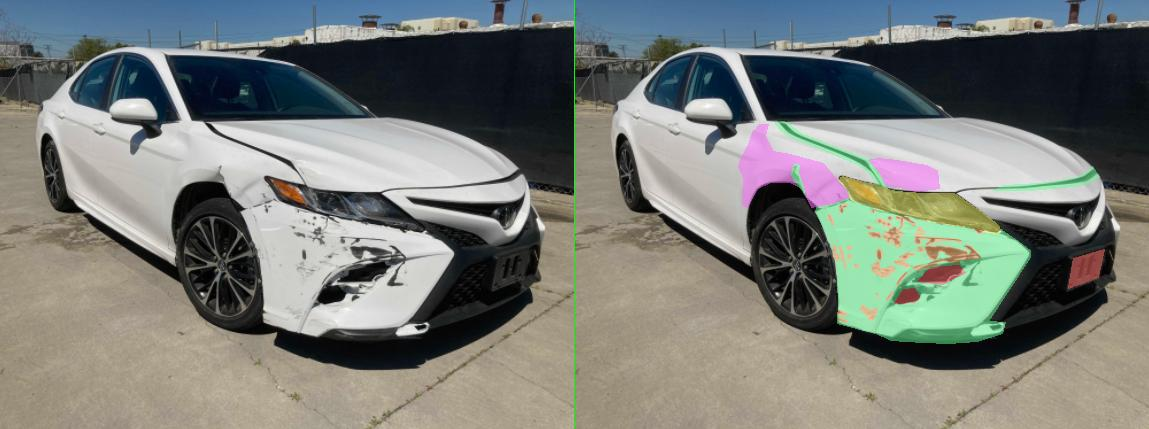Broken part: (480, 194, 911, 343), (398, 121, 623, 187), (835, 166, 1049, 190), (432, 164, 460, 194)
Cracked: (528, 176, 851, 233)
Dent: (326, 124, 548, 207), (585, 158, 729, 191)
Missing part: (987, 249, 1059, 288), (685, 265, 781, 284), (639, 288, 691, 303)
Paint chip: (685, 245, 811, 270), (679, 235, 773, 246), (617, 227, 657, 247), (593, 261, 639, 277), (643, 215, 681, 230), (570, 305, 605, 320), (528, 245, 542, 268), (601, 218, 635, 227), (643, 272, 665, 285), (514, 245, 530, 260), (649, 252, 679, 259), (639, 260, 669, 267), (587, 232, 613, 239), (601, 248, 615, 260), (528, 203, 544, 213), (623, 291, 637, 300), (506, 213, 516, 225), (799, 228, 817, 234), (524, 309, 542, 315), (522, 192, 536, 199), (677, 264, 695, 269), (526, 317, 544, 322), (679, 230, 701, 234), (685, 246, 697, 252), (542, 245, 552, 250), (585, 225, 595, 229), (625, 216, 635, 220), (544, 254, 552, 259), (685, 227, 693, 232), (556, 264, 566, 267), (595, 209, 601, 213), (603, 293, 607, 296)
Scratch: (585, 159, 657, 187)
